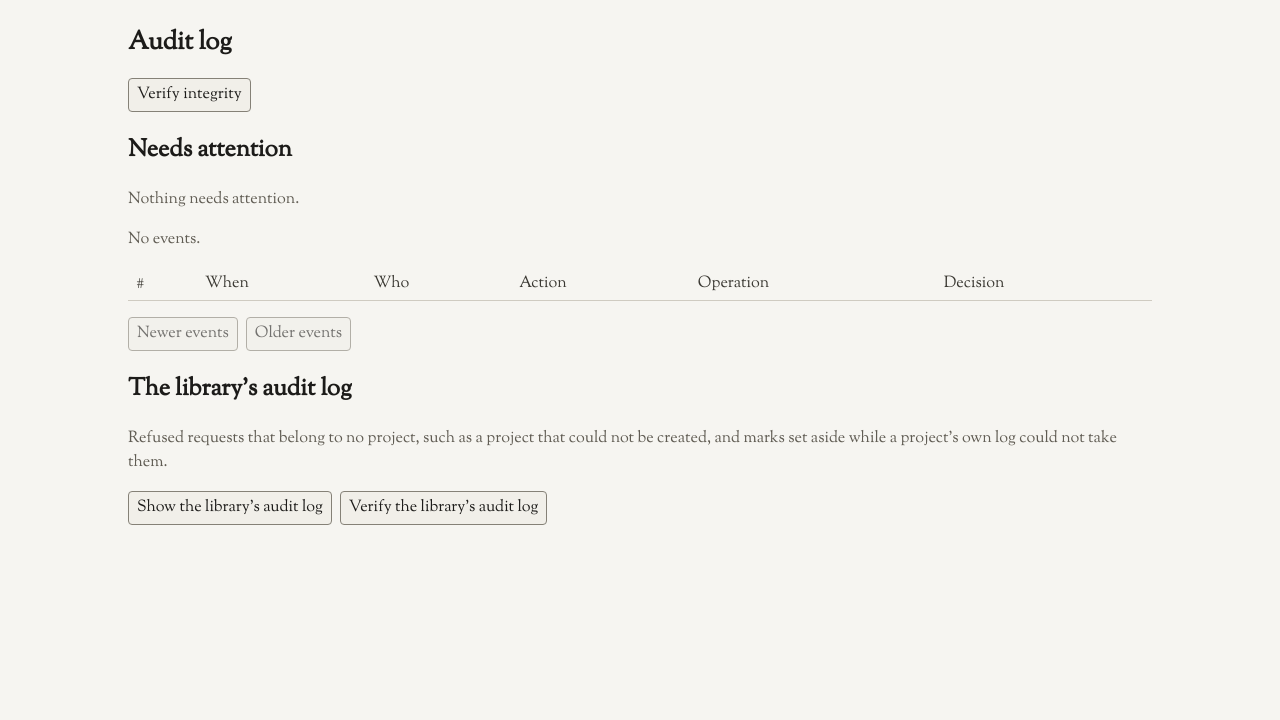
Scenario: Audit log › Verify integrity: "48,211 events — hash chain intact"
Click the button "Verify integrity" at (189, 95), box 128,78 -> 251,112
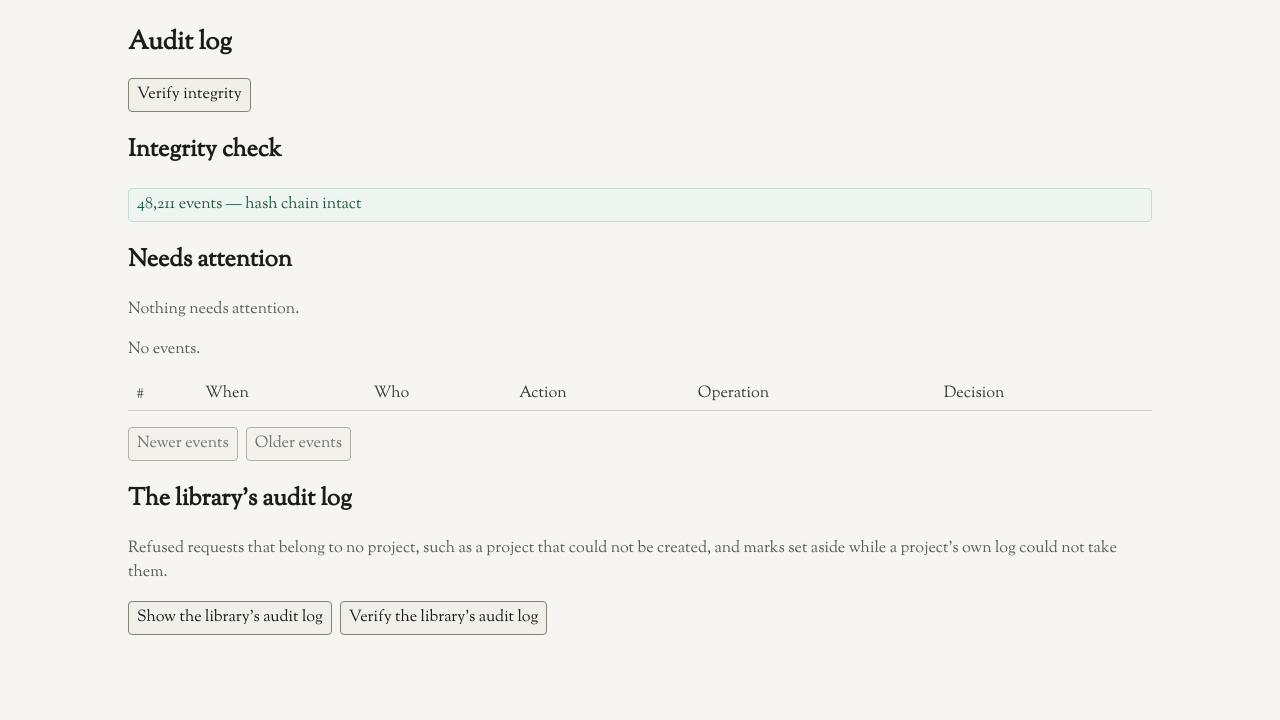
Now the message reads "48,211 events — hash chain intact", box 128,188 -> 1152,222
